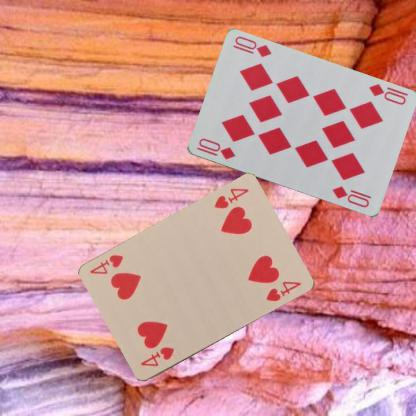10d: (366, 81, 409, 106), (194, 136, 236, 161)
4h: (212, 185, 250, 211), (138, 344, 176, 369)
